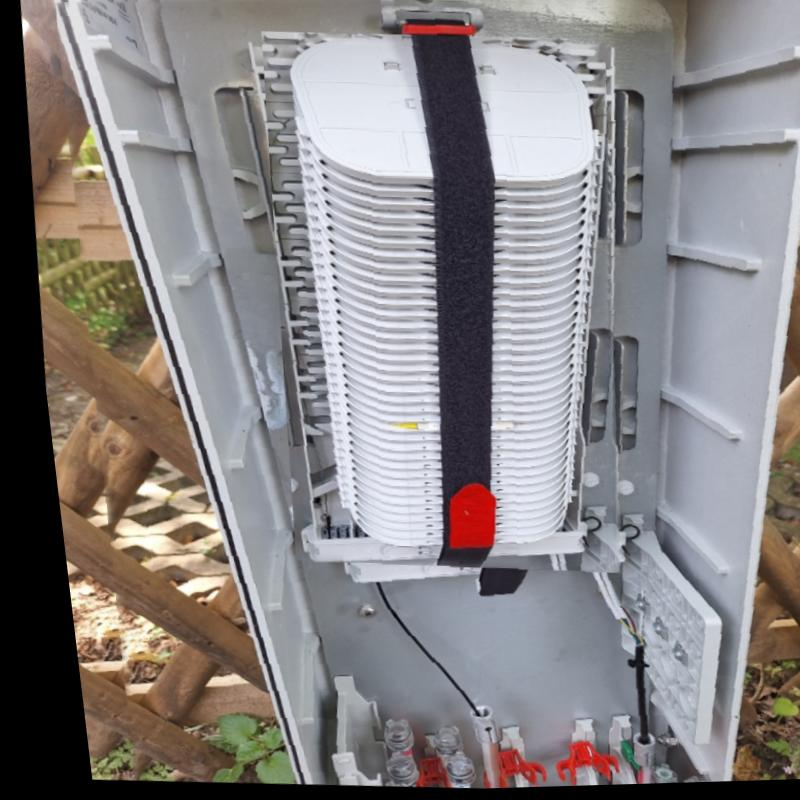NT-Gehause: (56, 2, 800, 791)
Spleiskassetten: (233, 25, 653, 585)
